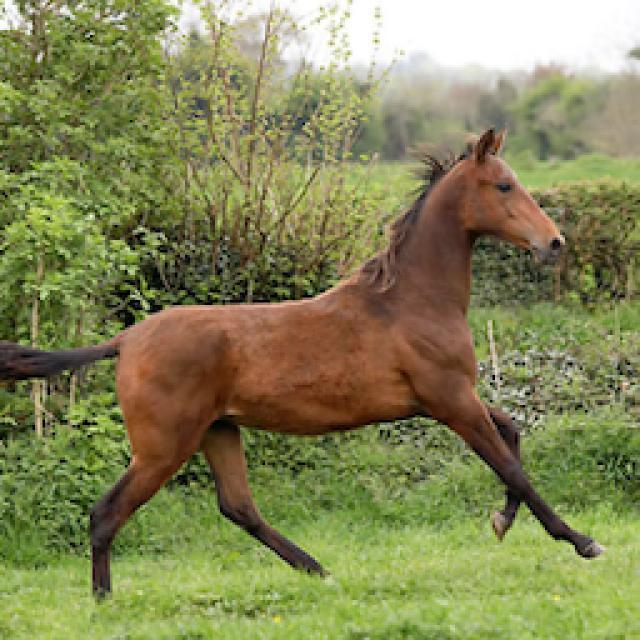Horse: (0, 120, 612, 605)
